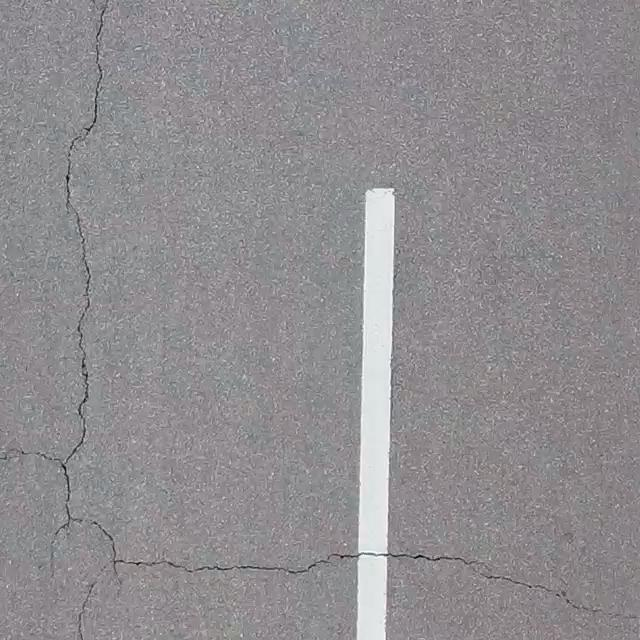GRIETA: (65, 0, 109, 463), (364, 552, 639, 621), (1, 448, 72, 575), (117, 553, 361, 574), (72, 518, 122, 599), (77, 568, 104, 639)
